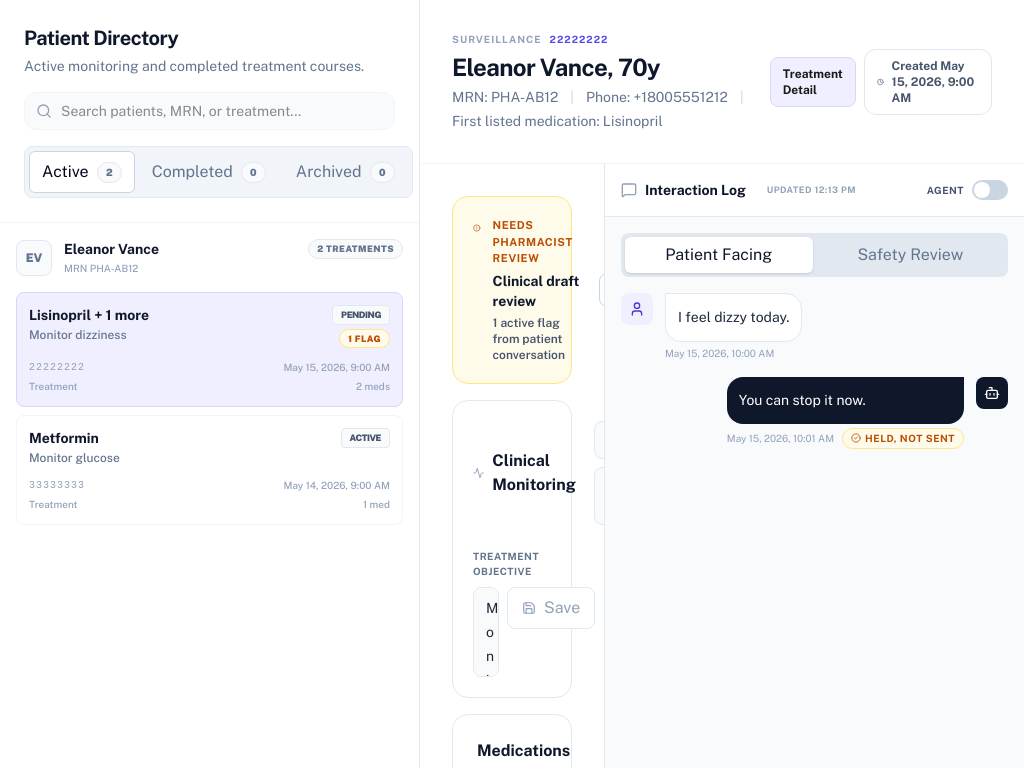
Test: PatientManagementPage › opens safety review when the treatment flag badge is clicked
The width and height of the screenshot is (1024, 768).
Expected: the text "I feel dizzy today." is shown, [678,306,789,329]
What coordinates should you click on to do the following:
click the text "1 flag"
I would click on:
 (364, 338)
Its box is [339,328,390,348].
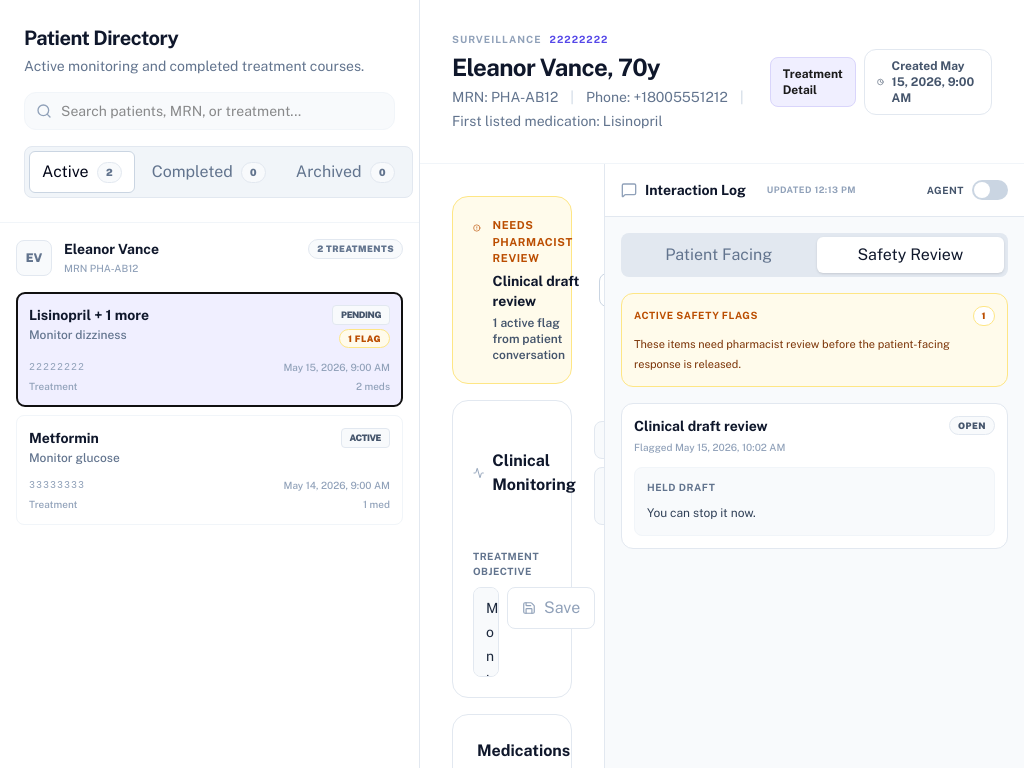
Result: the text "Active Safety Flags" is shown at [634,308,758,323]
Result: the text "Held draft" is shown at [647,480,715,492]
